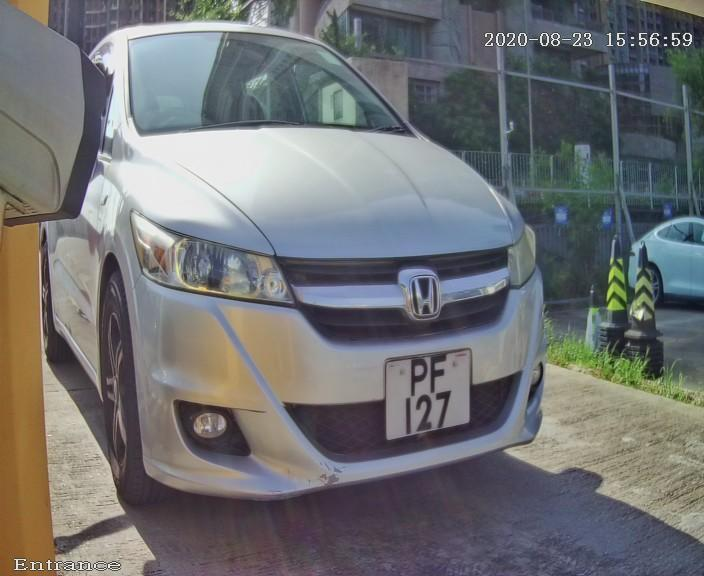Car: (38, 1, 591, 551)
License Plate: (368, 335, 478, 451)
